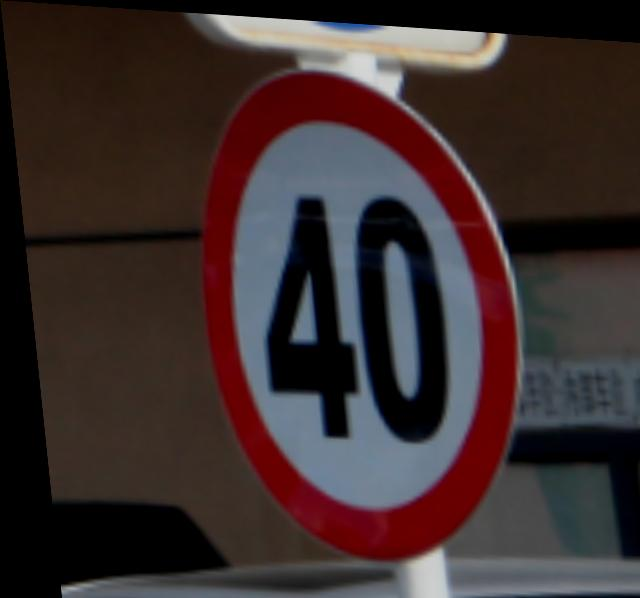limit40: (167, 45, 542, 568)
